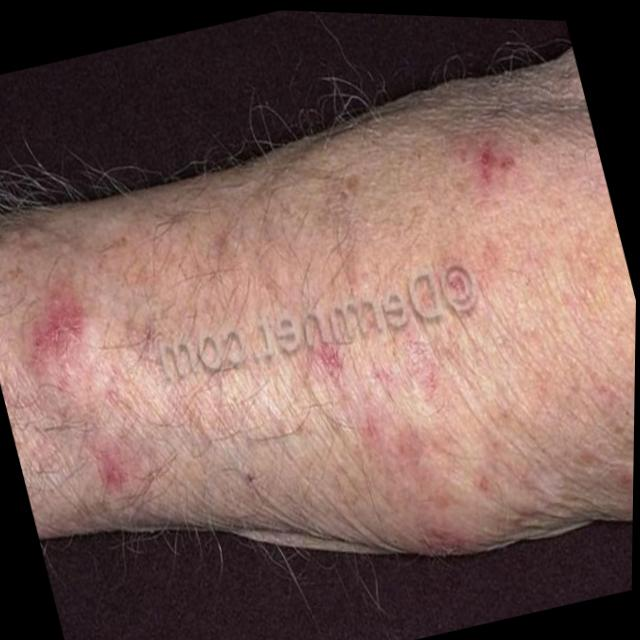Eczema: (5, 118, 582, 527)
